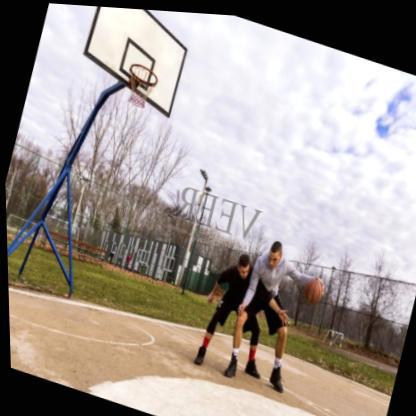basketball: (298, 270, 323, 302)
rim: (119, 59, 159, 110)
